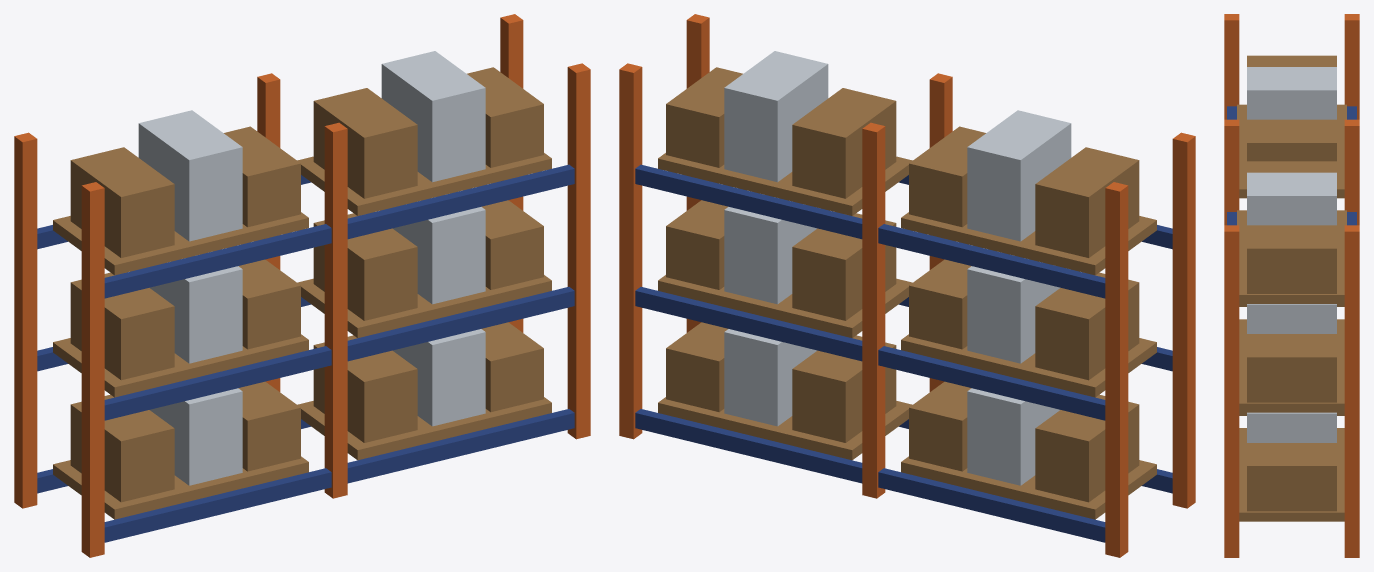
The model's file is pallet-rack.glb.
3 renders of one model, left to right at view 1: azimuth 30°, elevation 25°; view 2: azimuth 150°, elevation 25°; view 3: azimuth 270°, elevation 25°, orthographic. The views are drawn at different scales.
Visible parts, largest first — view 1: part-cardboard, part-wrapped, part-rack, part-rack-beam, part-pallet; view 2: part-cardboard, part-wrapped, part-rack, part-rack-beam, part-pallet; view 3: part-cardboard, part-rack, part-wrapped, part-pallet, part-rack-beam.
Boxes of the visible parts, left/top/right/bottom form: part-cardboard: left=70, top=67, right=543, bottom=502; part-wrapped: left=138, top=51, right=485, bottom=485; part-rack: left=14, top=14, right=590, bottom=557; part-rack-beam: left=37, top=164, right=574, bottom=542; part-pallet: left=53, top=153, right=551, bottom=519; part-cardboard: left=666, top=67, right=1139, bottom=502; part-wrapped: left=724, top=51, right=1071, bottom=485; part-rack: left=619, top=14, right=1195, bottom=557; part-rack-beam: left=635, top=164, right=1172, bottom=542; part-pallet: left=658, top=153, right=1156, bottom=519; part-cardboard: left=1247, top=55, right=1336, bottom=511; part-rack: left=1224, top=14, right=1359, bottom=557; part-wrapped: left=1247, top=67, right=1336, bottom=442; part-pallet: left=1237, top=104, right=1346, bottom=521; part-rack-beam: left=1227, top=106, right=1356, bottom=225.
Bounding box in the file's own units: 103 × 72 × 27.
